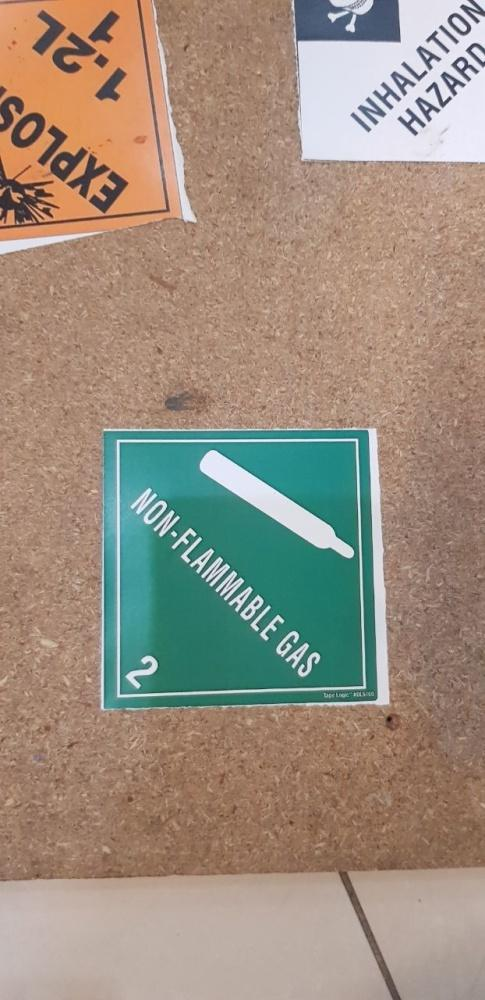explosive: (1, 4, 182, 230)
non-flammable-gas: (100, 429, 389, 713)
poison: (297, 1, 483, 167)
